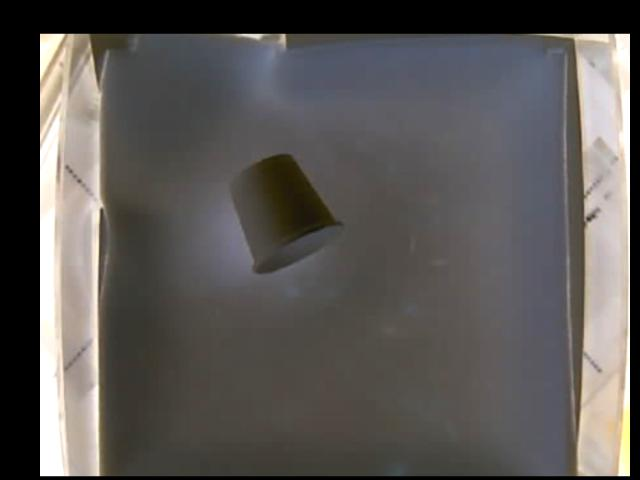Cup: (228, 154, 342, 273)
